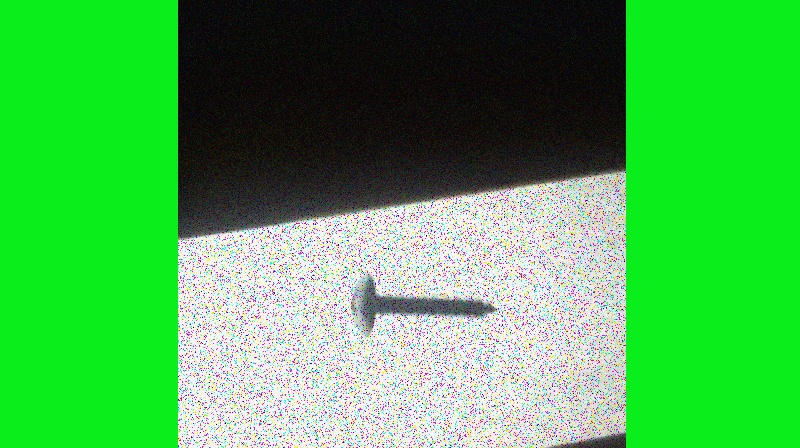S003: (343, 267, 499, 341)
